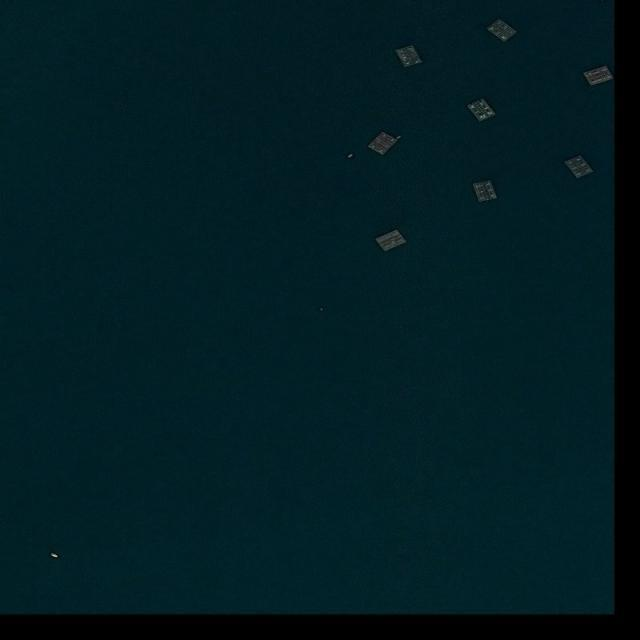ship: (50, 553, 59, 559)
